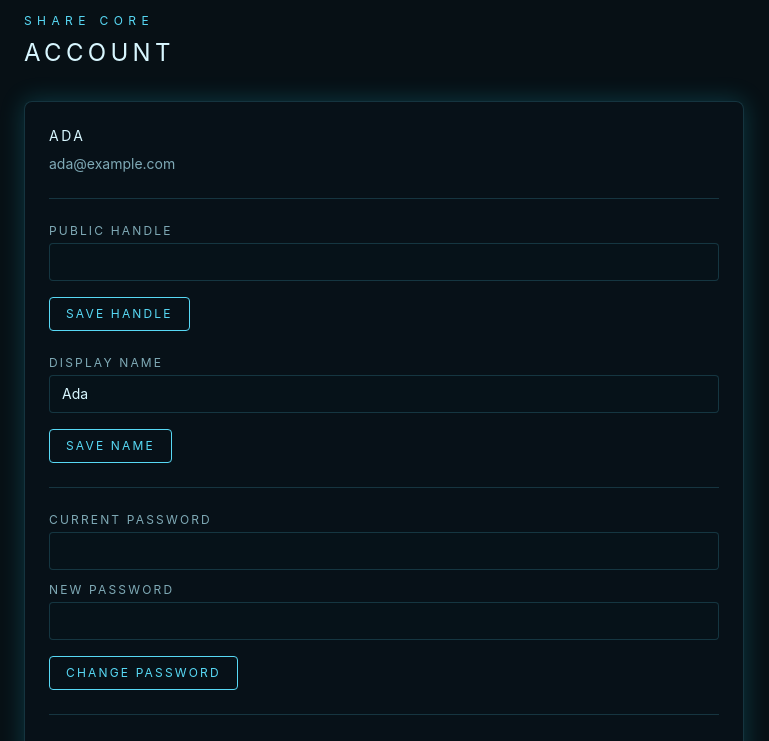
AccountPage profile management › renames the account
Replace the text in the field labelled "Display Name" with "Lady Lovelace" at (384, 394), box [49,375,719,413]
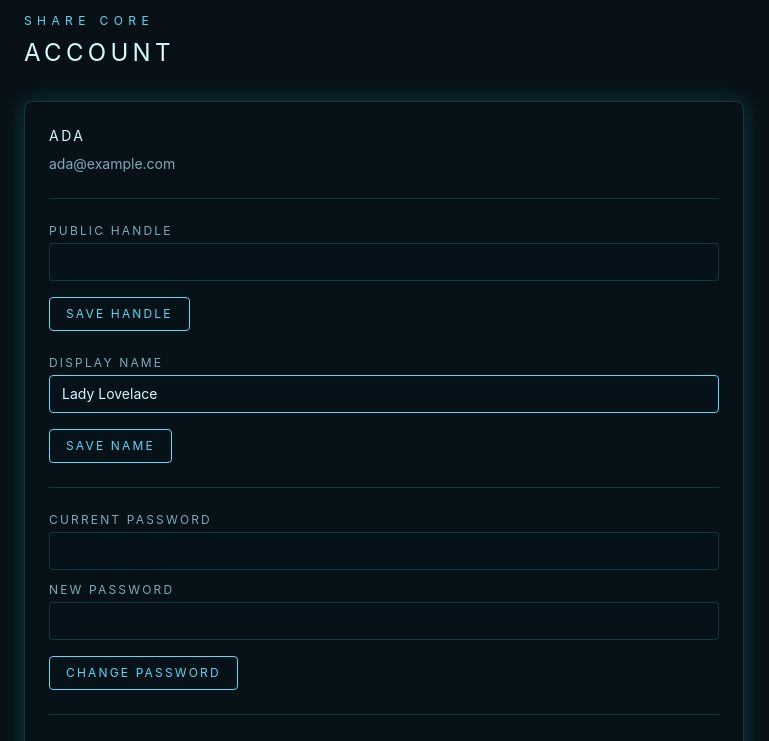
Click the button "Save Name" at (110, 446), box [49,429,172,463]
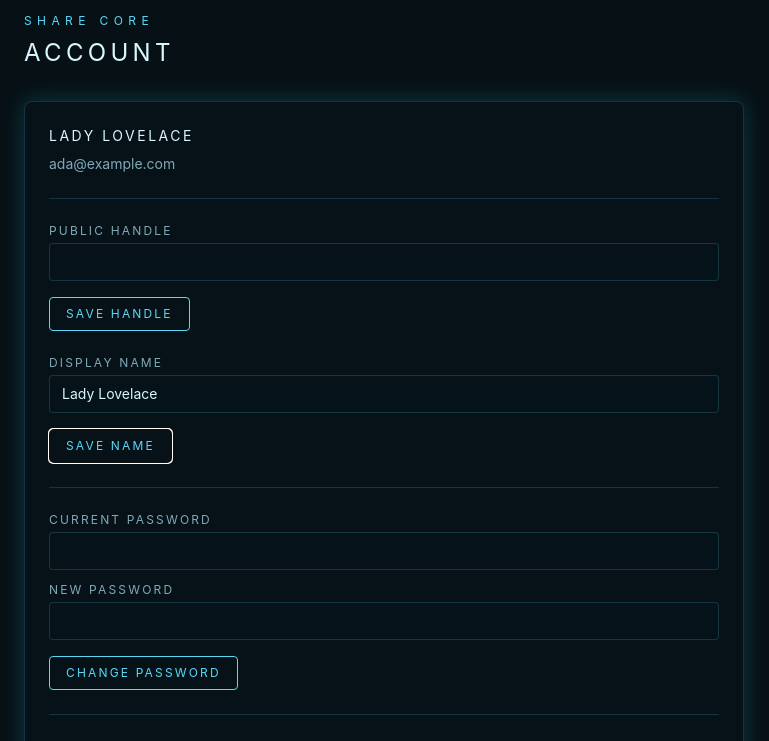
Result: the heading "Lady Lovelace" is shown at [49,127,194,144]
